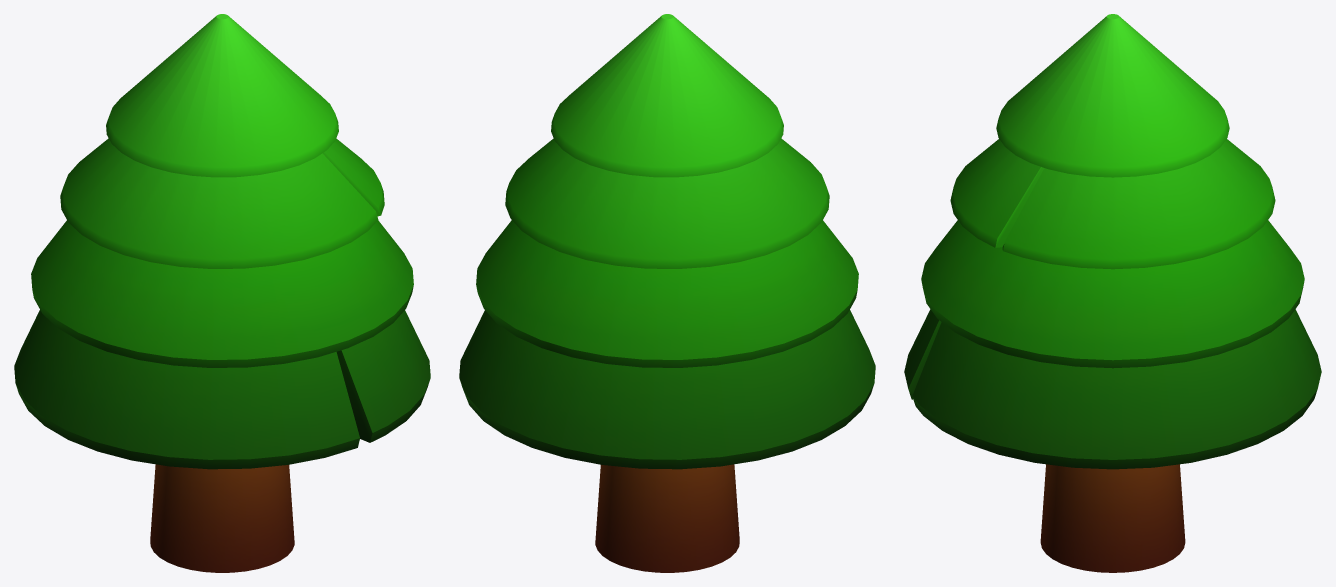
Rendered from PineTree.fbx.
The picture shows the model from 3 angles, left to right: view 1: azimuth 30°, elevation 25°; view 2: azimuth 150°, elevation 25°; view 3: azimuth 270°, elevation 25°; orthographic projection.
Visible parts, largest first — view 1: pineTree; view 2: pineTree; view 3: pineTree.
Part boxes in pixels (bbox=[...]): pineTree: bbox=[14, 14, 430, 572]; pineTree: bbox=[459, 14, 875, 572]; pineTree: bbox=[904, 14, 1321, 572].
Bounding box in the file's own units: 358 × 497 × 358.
